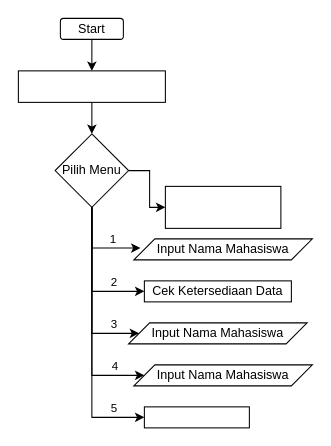
Image size: 331x446. Some labels were removed from this diagram. Here are the shapes that lost their labels. From the top down, the centre of each, then its label:
At pixel 91 86: "Tampilkan Menu Utama".
At pixel 222 206: "Tampilkan Pesan Kesalahan".
At pixel 196 417: "Keluar program".
